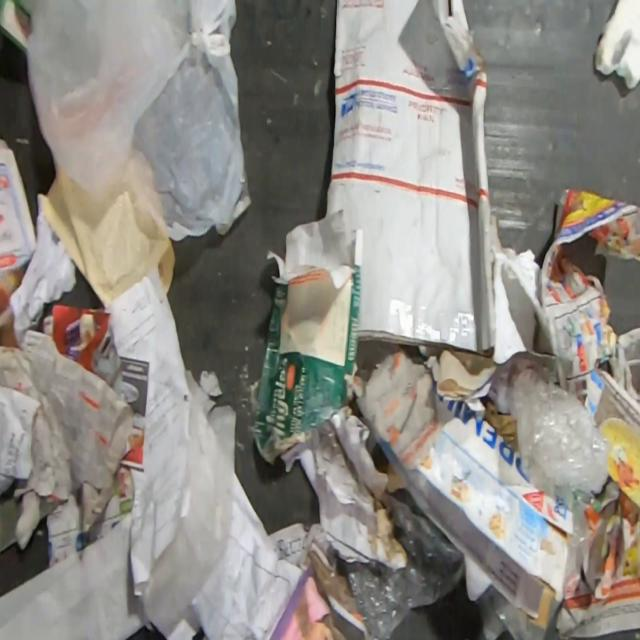cardboard: (322, 0, 501, 361), (368, 398, 575, 630), (251, 209, 365, 471)
soft_plastic: (11, 0, 252, 241), (336, 488, 464, 639), (510, 367, 610, 512), (562, 498, 592, 590)
